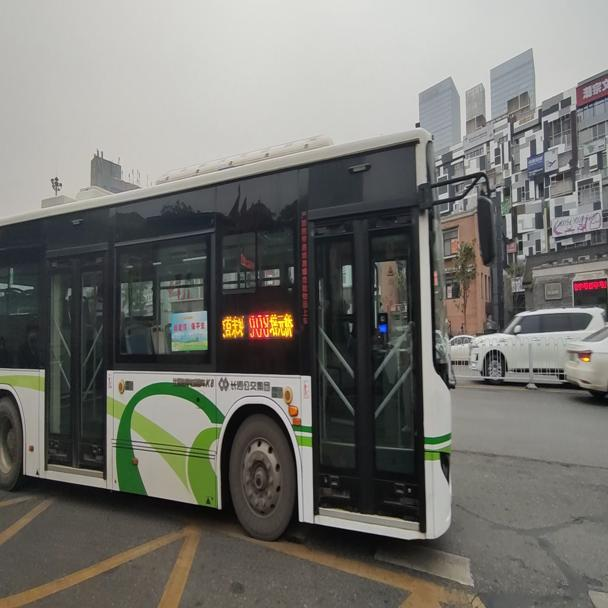bus: (1, 118, 498, 549)
screen: (248, 313, 268, 338)
